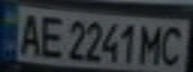1: (118, 20, 139, 64)
2: (81, 17, 106, 63), (63, 16, 87, 62)
4: (100, 18, 121, 63)
A: (12, 10, 45, 56)
C: (157, 21, 190, 68)
E: (33, 11, 66, 60)
M: (136, 21, 169, 65)
